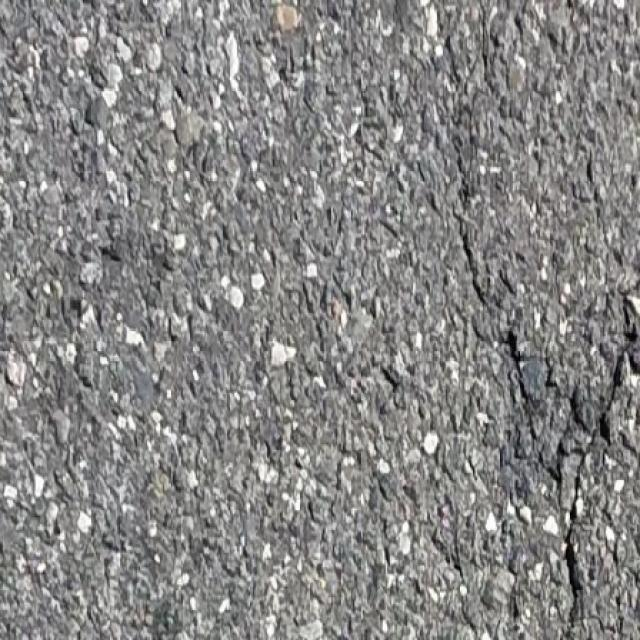Alligator Crack: (444, 127, 639, 638)
